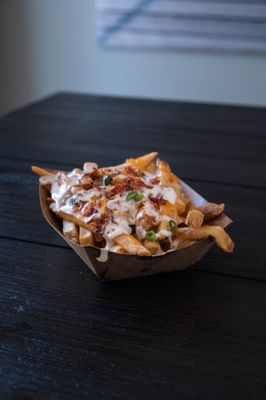curry: (1, 143, 263, 399)
sandwich: (35, 152, 236, 258)
